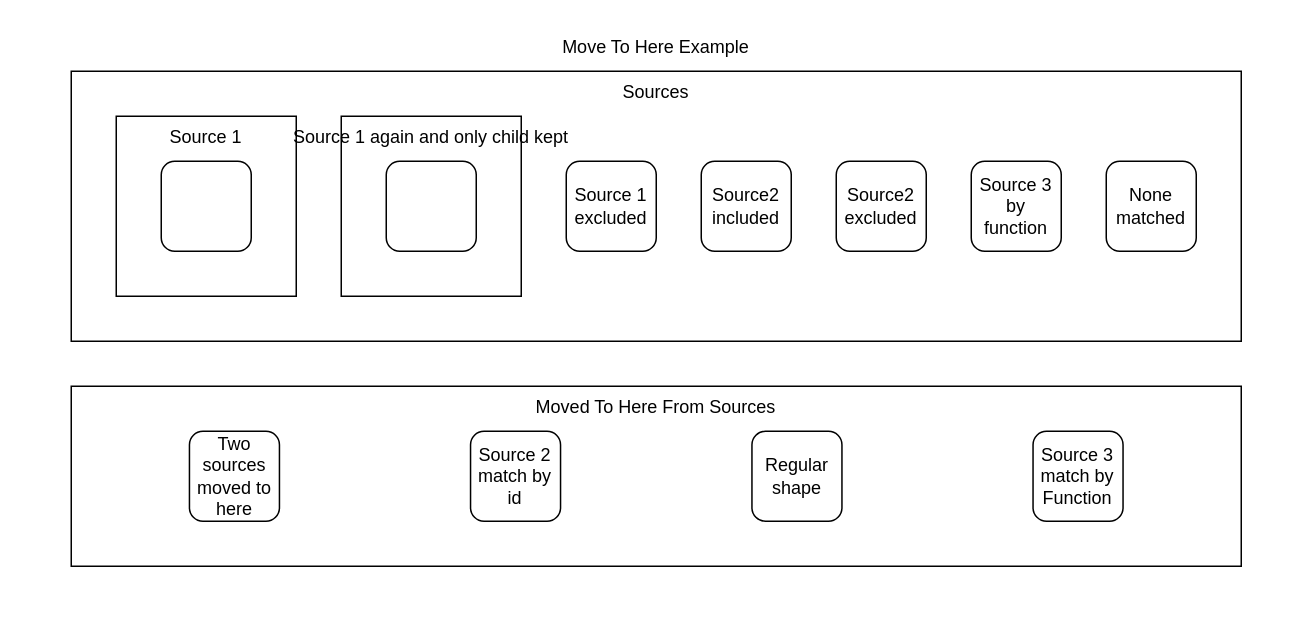
The diagram is 1311 pixels wide and 636 high, and some of its shapes have lost their labels. Each missing label, with the centre of its shape:
"Source 1 first child" belongs at point 205,205.
"Source 1 second child" belongs at point 430,205.
